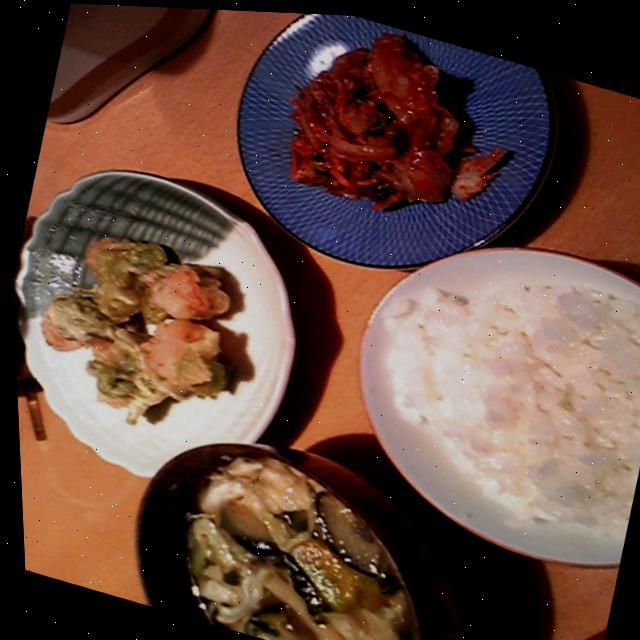米饭主食: (300, 189, 640, 579)
